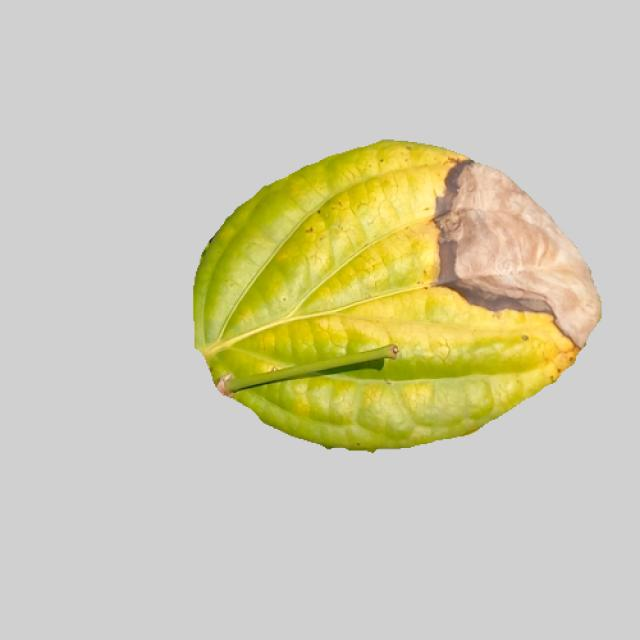leaf-blight: (183, 141, 605, 453)
